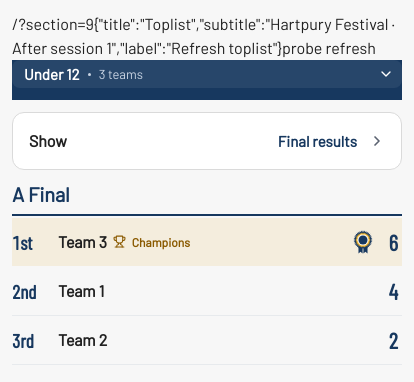
Test case: the age group select › changes the section in the URL and loads that age group
The image size is (414, 382).
Expected: the text "Team 3" is shown, x1=58 y1=232 x2=107 y2=252
Click the dropdown named "Age group". click: click(52, 74)
box: x1=12 y1=60 x2=402 y2=88
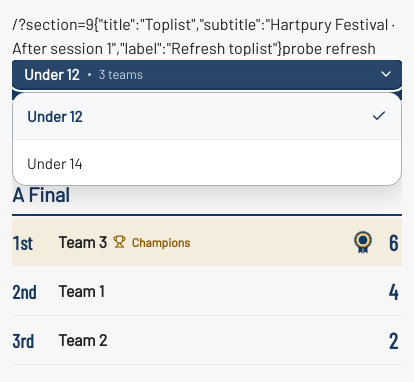
Click the option "Under 14". click: click(55, 162)
box: x1=13 y1=139 x2=401 y2=185
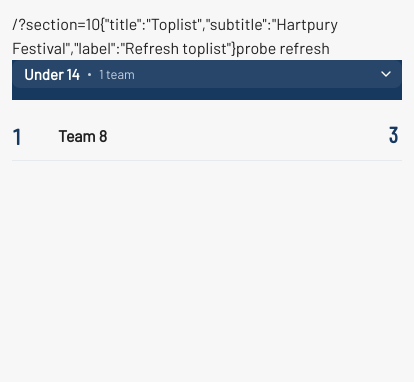
Result: the text with test id "search" reads "?section=10" at x1=18 y1=14 x2=100 y2=33
Result: the text "Team 8" is shown at x1=58 y1=126 x2=107 y2=145
Result: the dropdown named "Age group" shows "Under 14" at x1=12 y1=60 x2=402 y2=88
